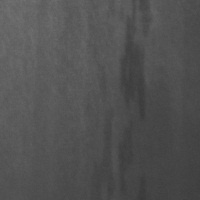inclusion: (116, 1, 152, 199), (88, 44, 114, 199)
